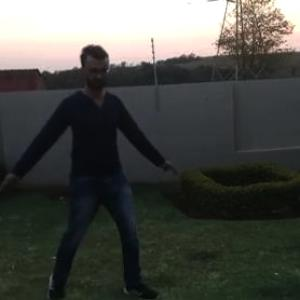land: (31, 62, 166, 268)
